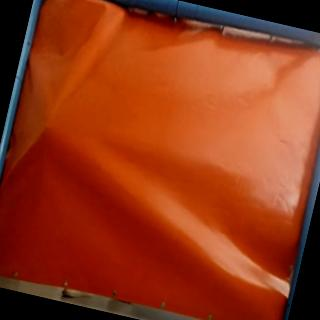Hit-hRxx: (36, 120, 56, 140)
